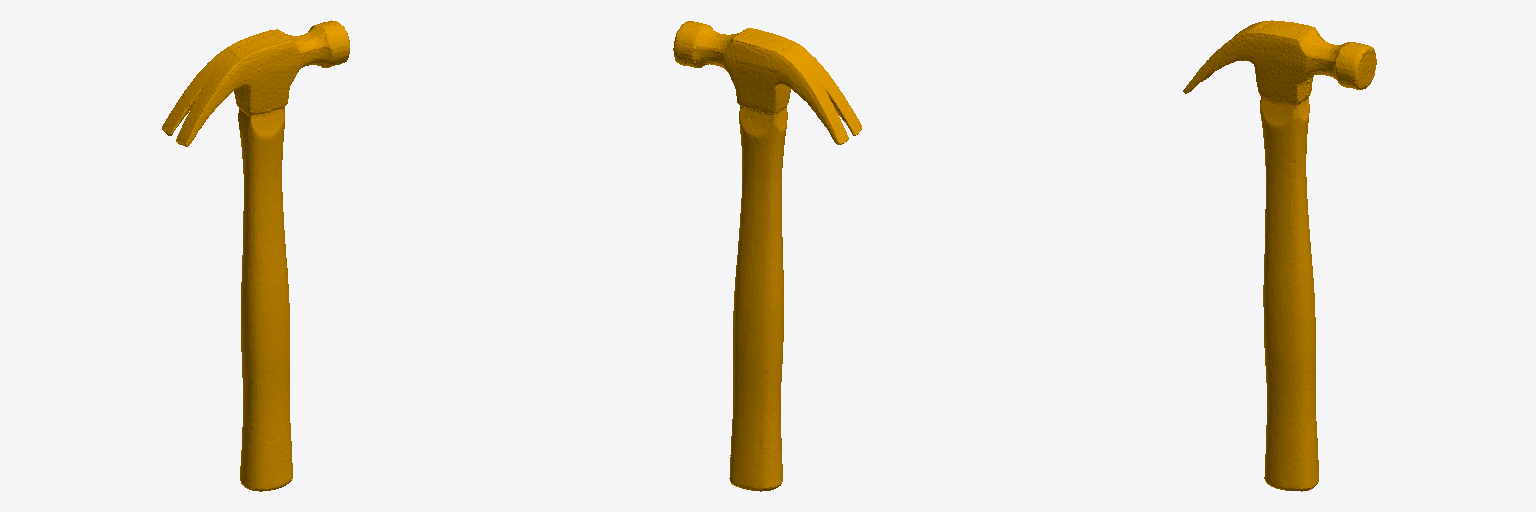
robot.urdf — ycb_hammer:
<?xml version="1.0"?>
<robot name="ycb_hammer">
  <link name="base_link">
    <inertial>
      <mass value="0.325" />
      <origin xyz="0 0 0" />
      <inertia  ixx="0.0002" ixy="0.0"  ixz="0.0"  iyy="0.0002"  iyz="0.0" izz="0.0002" />
    </inertial>
    <visual>
      <geometry>
        <mesh filename="textured.obj" />
      </geometry>
    </visual>
    <collision>
      <geometry>
        <mesh filename="textured.obj" />
      </geometry>
    </collision>
  </link>
</robot>

--- Facts derived from the render (not from the file) ---
The picture shows the robot from 3 angles, left to right: view 1: azimuth 30°, elevation 25°; view 2: azimuth 150°, elevation 25°; view 3: azimuth 330°, elevation 25°; orthographic projection.
Robot: ycb_hammer — 1 links, 0 joints (none); root link base_link; default pose: every joint at zero.
Visible links, largest first — view 1: base_link; view 2: base_link; view 3: base_link.
Link boxes in pixels (<box>): base_link: <box>162,20,349,491</box>; base_link: <box>673,21,861,491</box>; base_link: <box>1183,20,1376,491</box>.
Bounding box of the posed robot: 0.1315 × 0.0329 × 0.3307 m (x, y, z).
1 mesh visuals loaded from 1 distinct referenced files (1 OBJ).